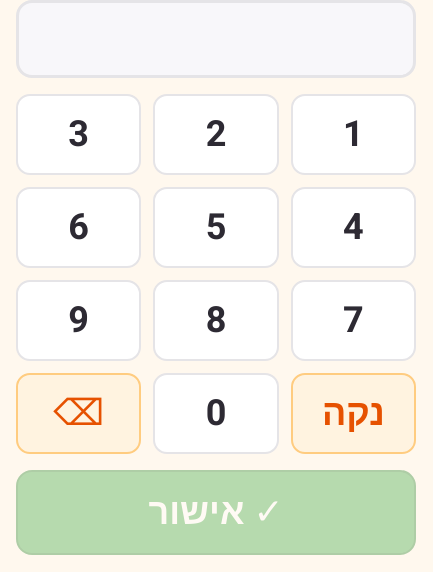
Scenario: NumberInput › backspace removes the last digit
The image size is (433, 572).
Click the button "1" at (353, 134), box [291,94,416,175]
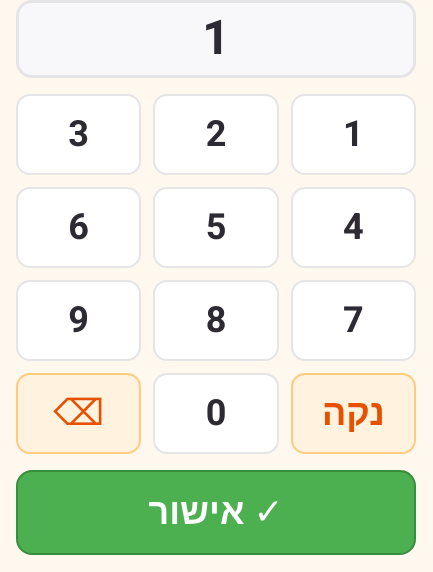
Click the button "8" at (216, 320), box [153,280,279,361]
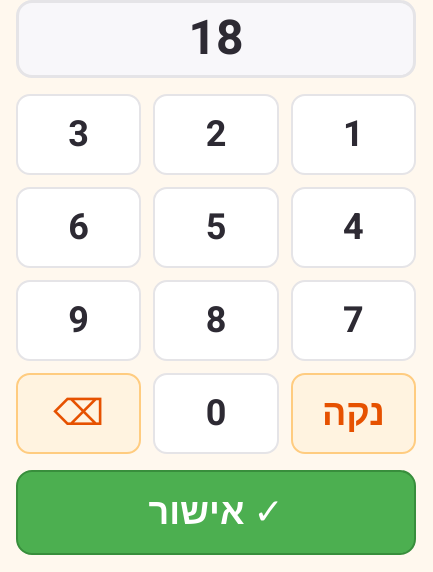
Click the button named "מחק" at (79, 414), box [16,373,141,454]
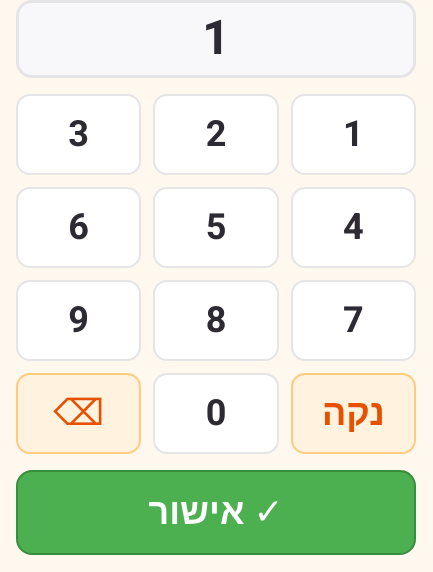
Expected: the text with class "number-input__value" reads "1", [202,4,230,74]
